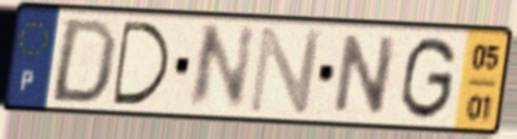D: (46, 16, 121, 107), (110, 17, 174, 108)
G: (397, 34, 460, 123)
N: (245, 24, 327, 116), (182, 22, 259, 113), (328, 31, 402, 117)
